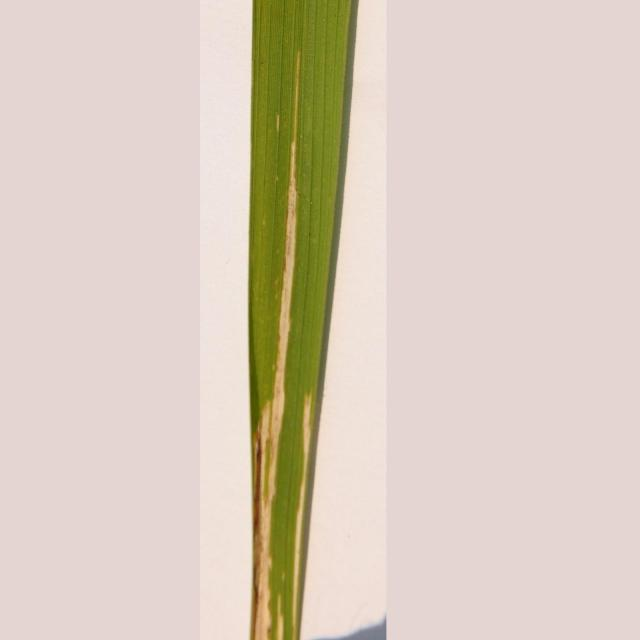Bacterial leaf blight: (200, 1, 382, 640)
